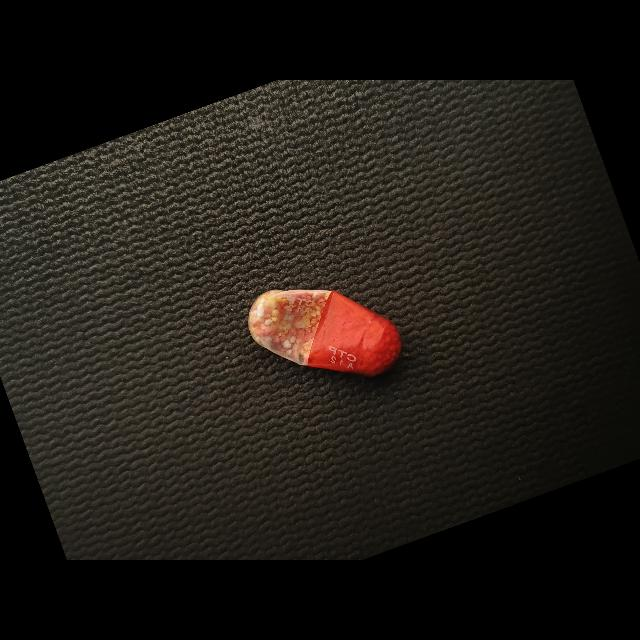Defective Capsule: (248, 290, 401, 377)
